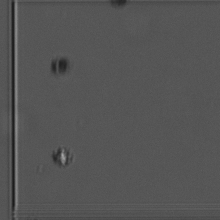Dead Cell: (46, 55, 74, 76)
Living Cell: (52, 146, 76, 171)
